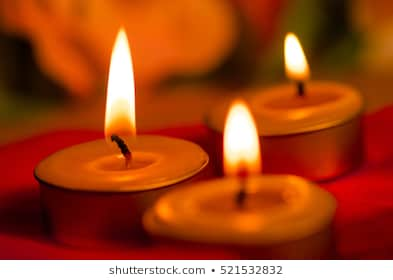Fire: (102, 29, 144, 144), (220, 99, 267, 185), (279, 29, 313, 82)
